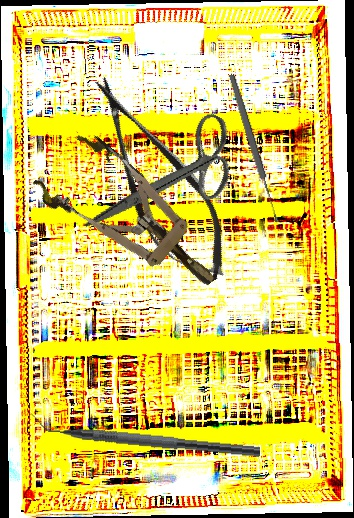Chopper: (29, 410, 262, 458)
Iris Scissors: (83, 84, 253, 275)
Micro Scissor: (67, 61, 248, 299)
Speculum: (27, 123, 238, 316)
Surgical Spoon: (227, 73, 281, 224)
